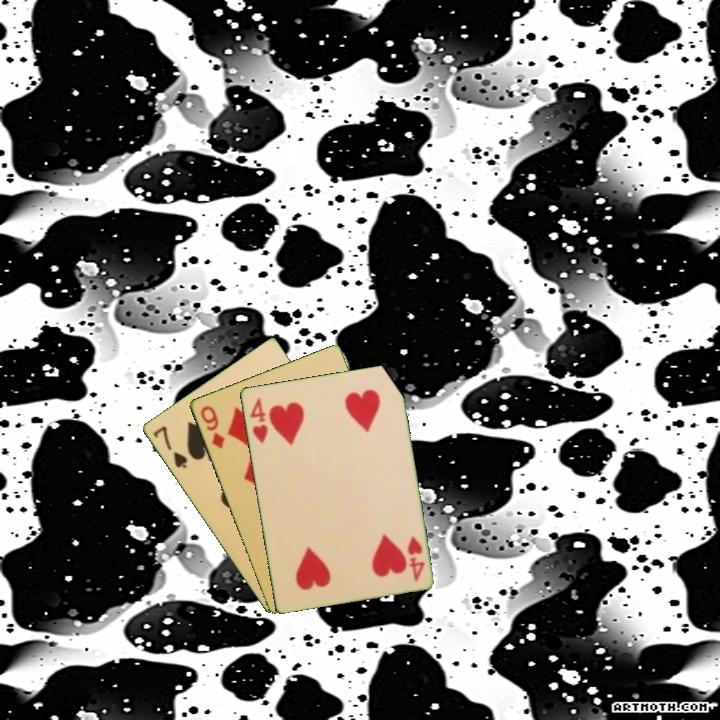4h: (246, 394, 270, 446), (403, 532, 427, 584)
7s: (149, 422, 190, 471)
9d: (196, 402, 227, 452)
